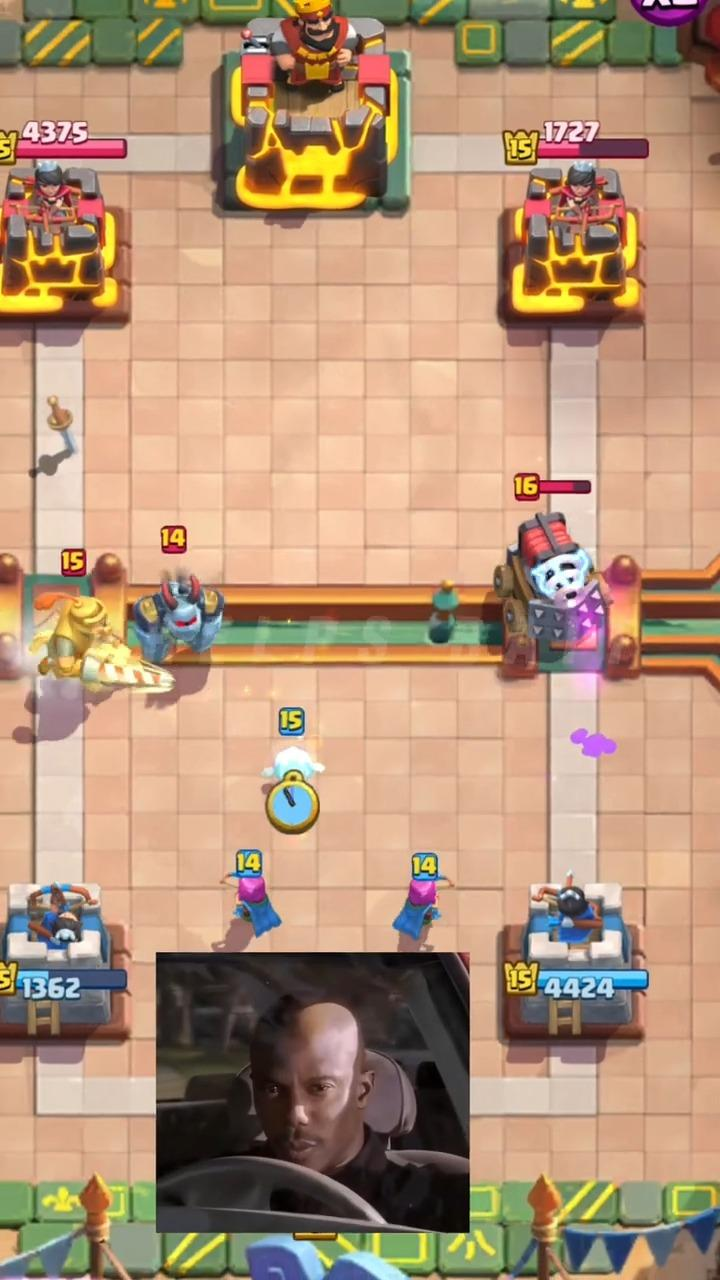archer: (221, 851, 281, 937), (393, 854, 451, 942)
ice spirit: (263, 741, 324, 781)
mega minion: (134, 575, 224, 664)
prince: (29, 591, 173, 693)
sparky: (494, 513, 608, 652)
